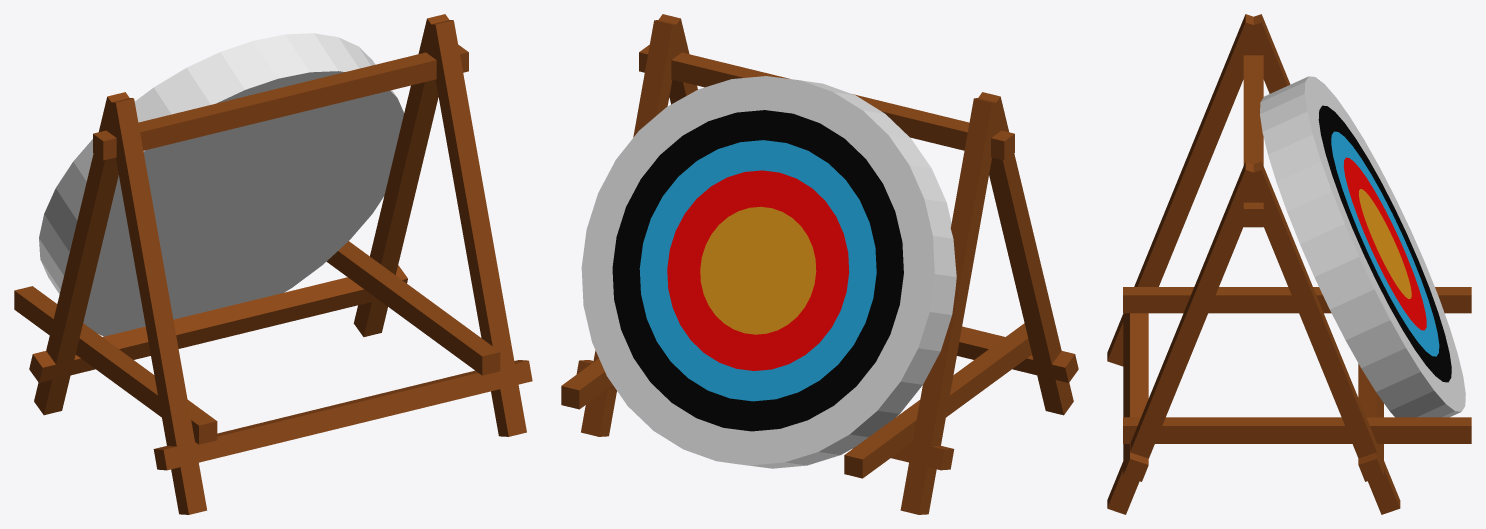
File: ArcheryTarget.fbx
The picture shows the model from 3 angles, left to right: view 1: azimuth 30°, elevation 25°; view 2: azimuth 150°, elevation 25°; view 3: azimuth 270°, elevation 25°; orthographic projection. The views are drawn at different scales.
Visible parts, largest first — view 1: Target, Cube.002, Cube.003, Cube.004, Cube.005, Cube.006, Cube, Cube.001, Cube.008, Cube.007; view 2: Target, Cube, Cube.002, Cube.007, Cube.004, Cube.001, Cube.005, Cube.008, Cube.006, Cube.003; view 3: Target, Cube.008, Cube.001, Cube.003, Cube.002, Cube.007, Cube.005, Cube.004, Cube, Cube.006.
Part boxes in pixels (<box>): Target: <box>39,33,404,336</box>; Cube.002: <box>106,98,207,514</box>; Cube.003: <box>425,20,526,436</box>; Cube.004: <box>93,45,468,160</box>; Cube.005: <box>153,360,532,470</box>; Cube.006: <box>29,265,407,382</box>; Cube: <box>34,92,129,415</box>; Cube.001: <box>353,14,449,336</box>; Cube.008: <box>326,241,500,375</box>; Cube.007: <box>14,286,217,444</box>; Target: <box>581,76,956,468</box>; Cube: <box>900,98,1001,514</box>; Cube.002: <box>978,92,1073,415</box>; Cube.007: <box>844,323,1031,478</box>; Cube.004: <box>639,45,1014,160</box>; Cube.001: <box>581,20,681,436</box>; Cube.005: <box>957,326,1078,382</box>; Cube.008: <box>561,358,612,409</box>; Cube.006: <box>576,360,954,470</box>; Cube.003: <box>658,14,697,104</box>; Target: <box>1260,76,1465,417</box>; Cube.008: <box>1123,417,1471,443</box>; Cube.001: <box>1243,161,1400,514</box>; Cube.003: <box>1107,161,1262,514</box>; Cube.002: <box>1107,14,1262,366</box>; Cube.007: <box>1123,287,1471,313</box>; Cube.005: <box>1123,313,1148,481</box>; Cube.004: <box>1243,55,1263,227</box>; Cube: <box>1243,14,1290,93</box>; Cube.006: <box>1358,363,1383,481</box>.
Size of the model in its own units: 800 by 764 by 731.
